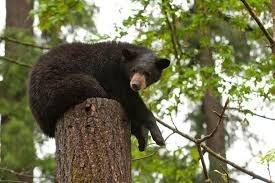bear: (30, 41, 170, 152)
